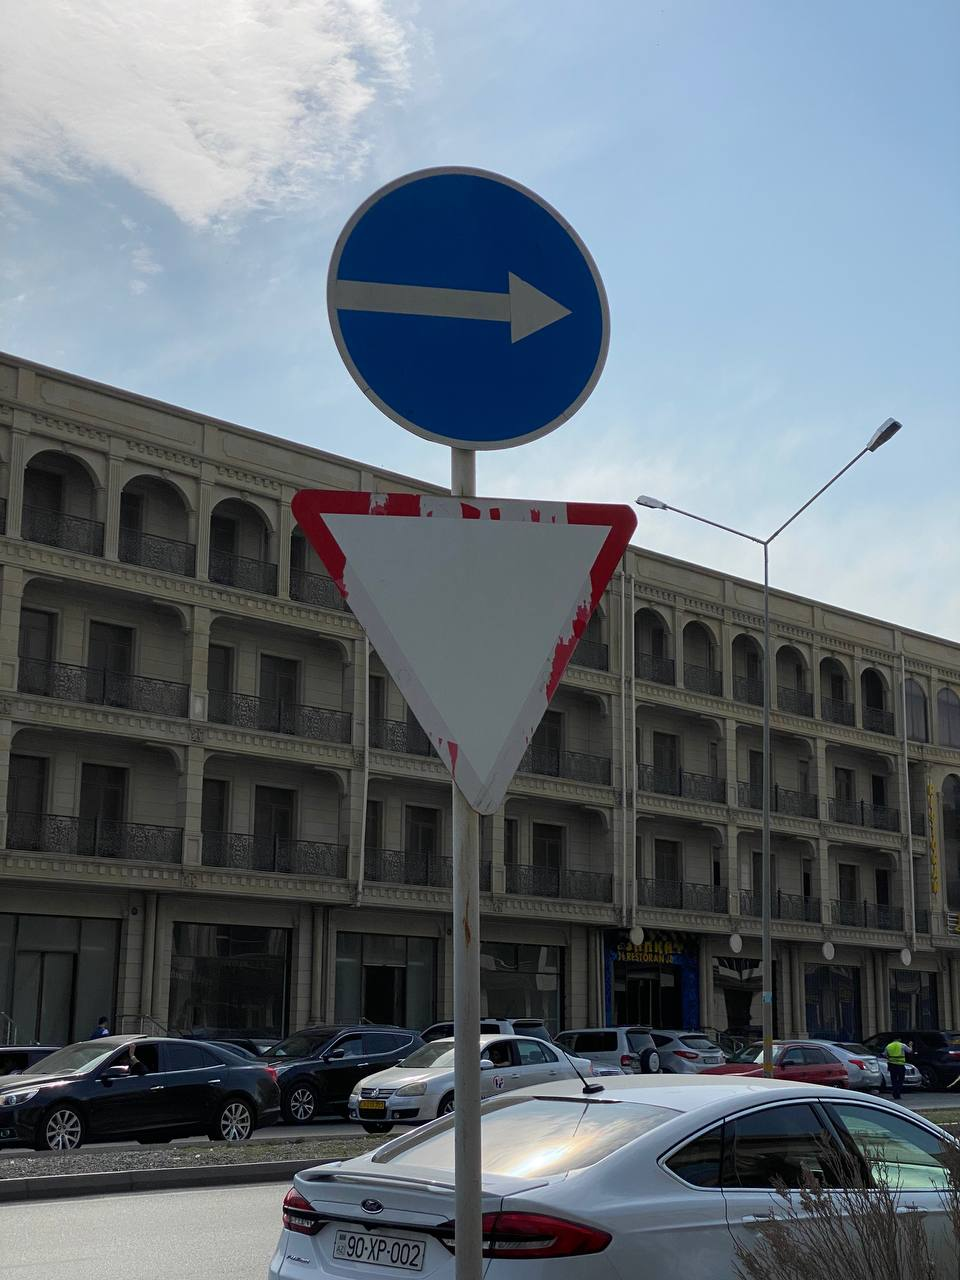Turn Right: (327, 166, 612, 451)
